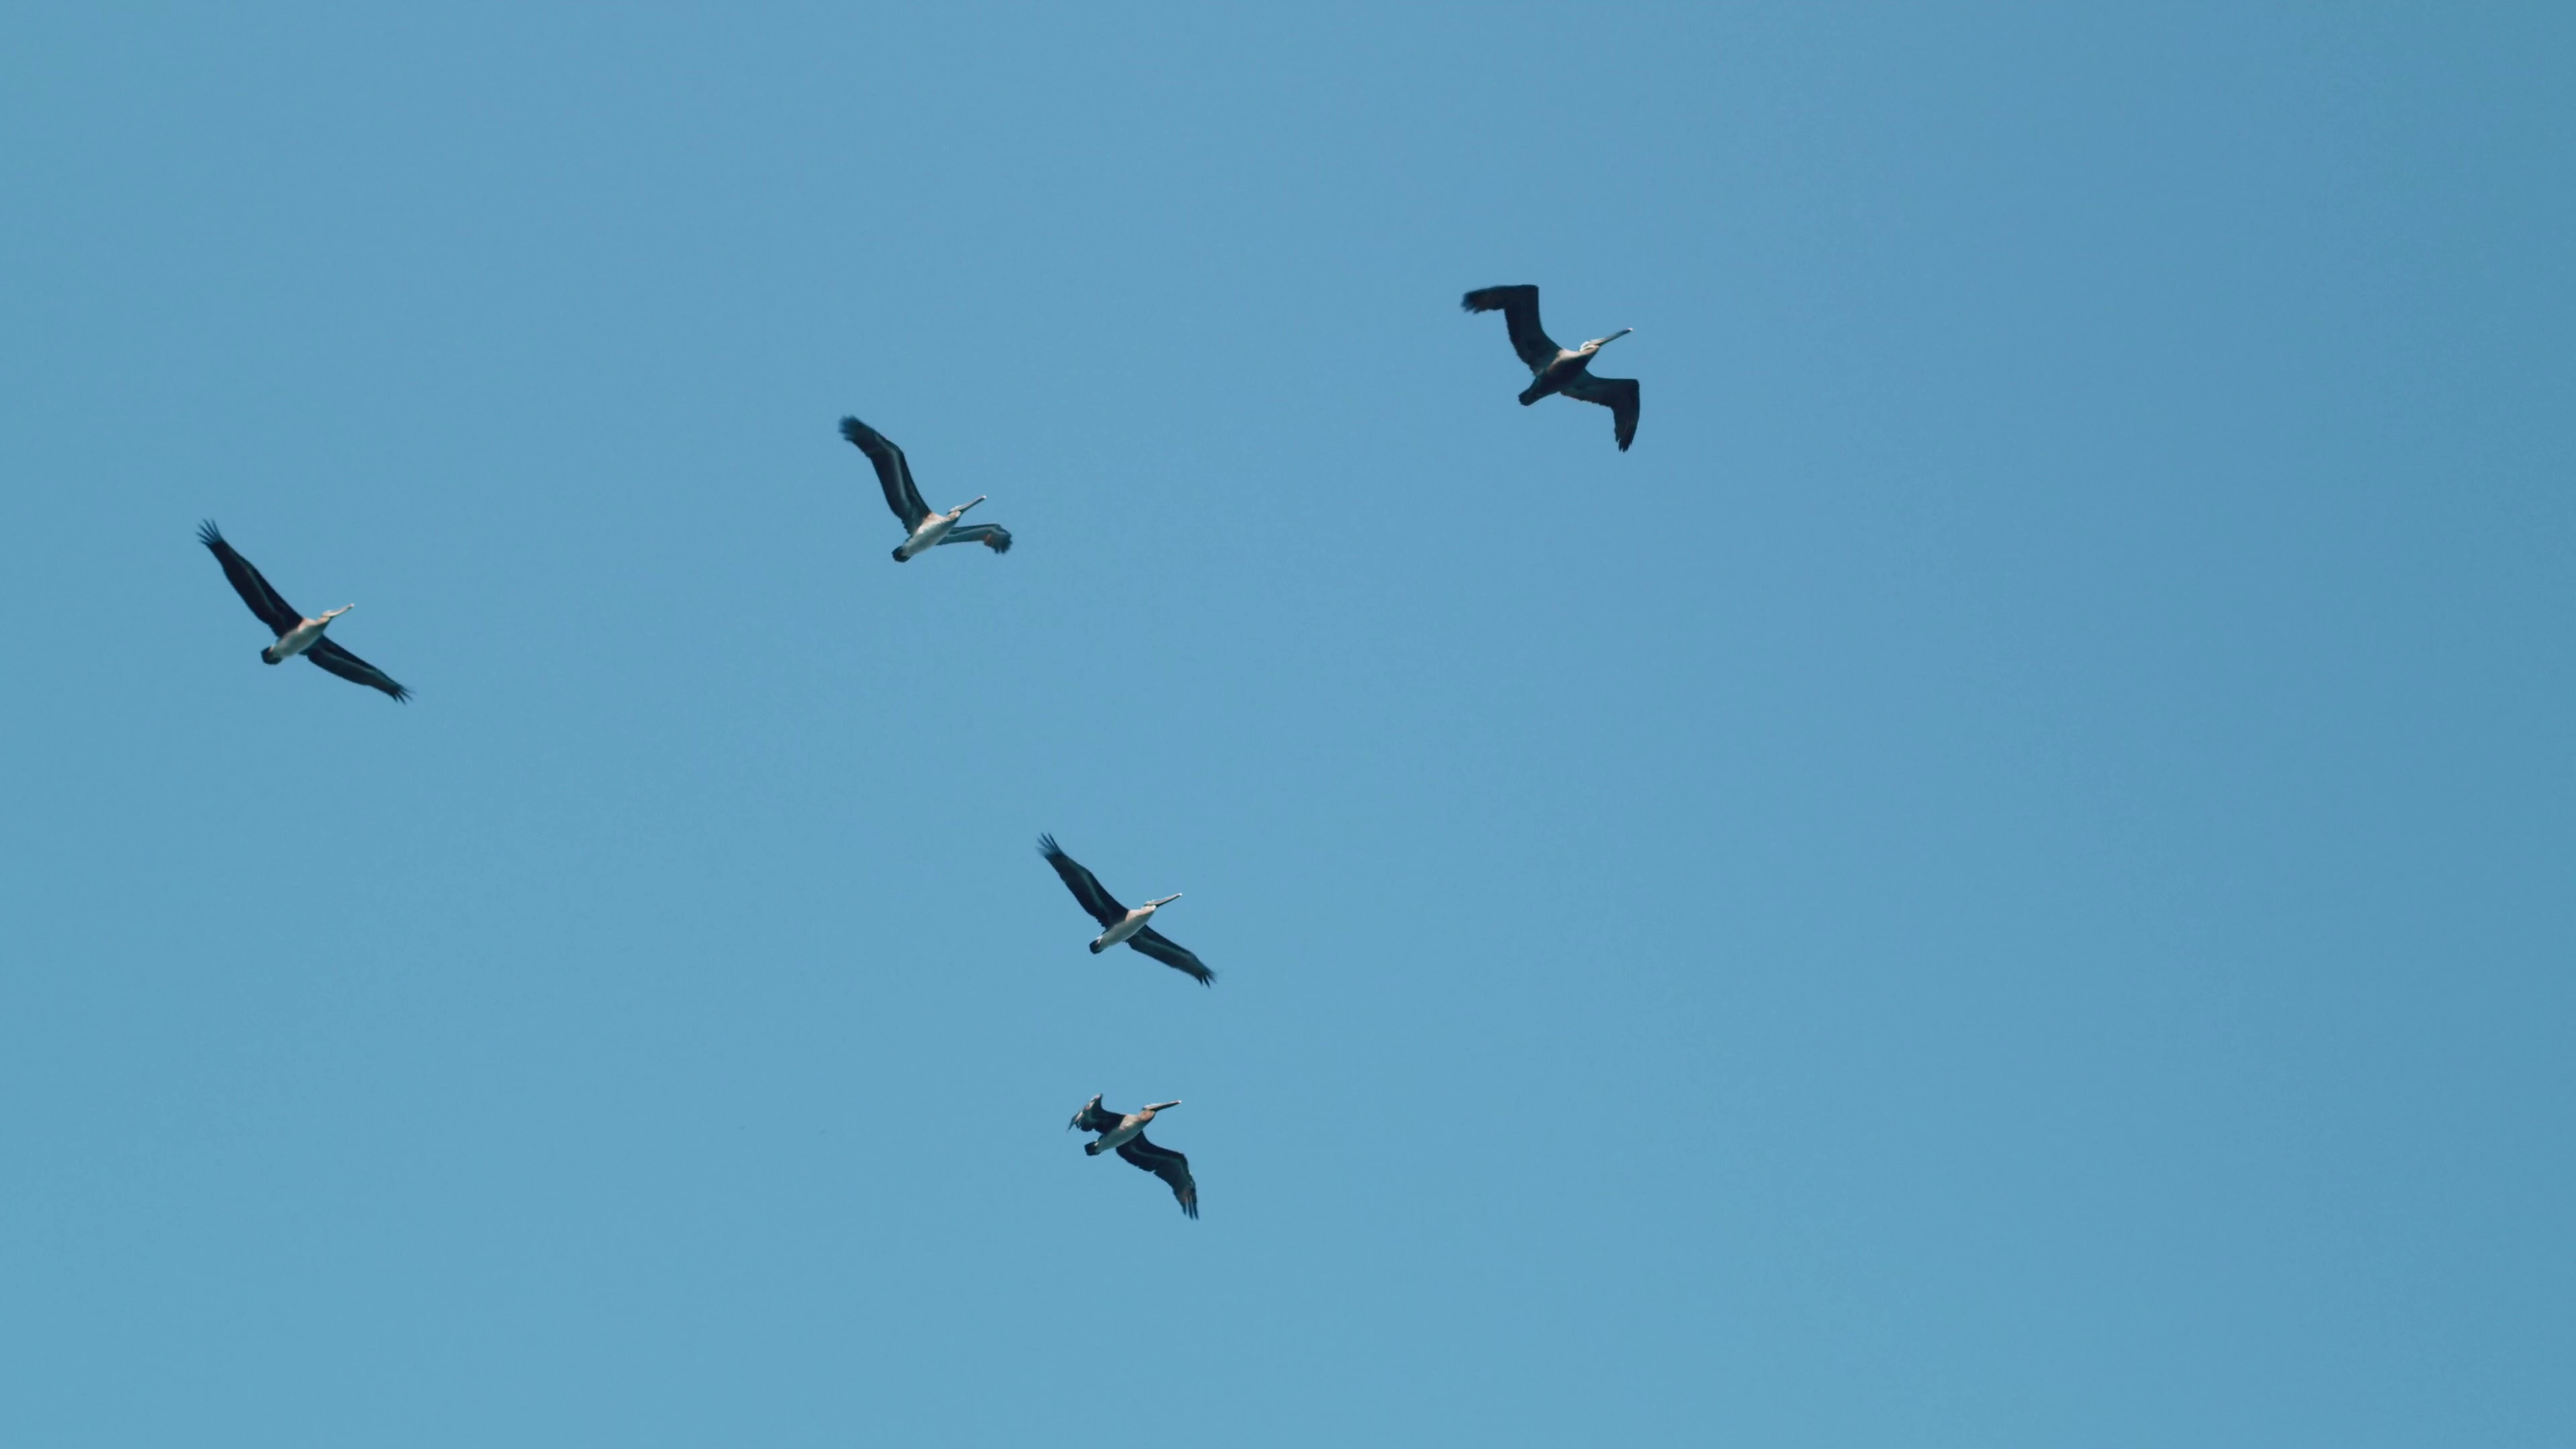bird: (198, 513, 412, 706), (1453, 283, 1640, 458), (837, 412, 1010, 566), (1044, 835, 1214, 989), (1070, 1085, 1194, 1224)
